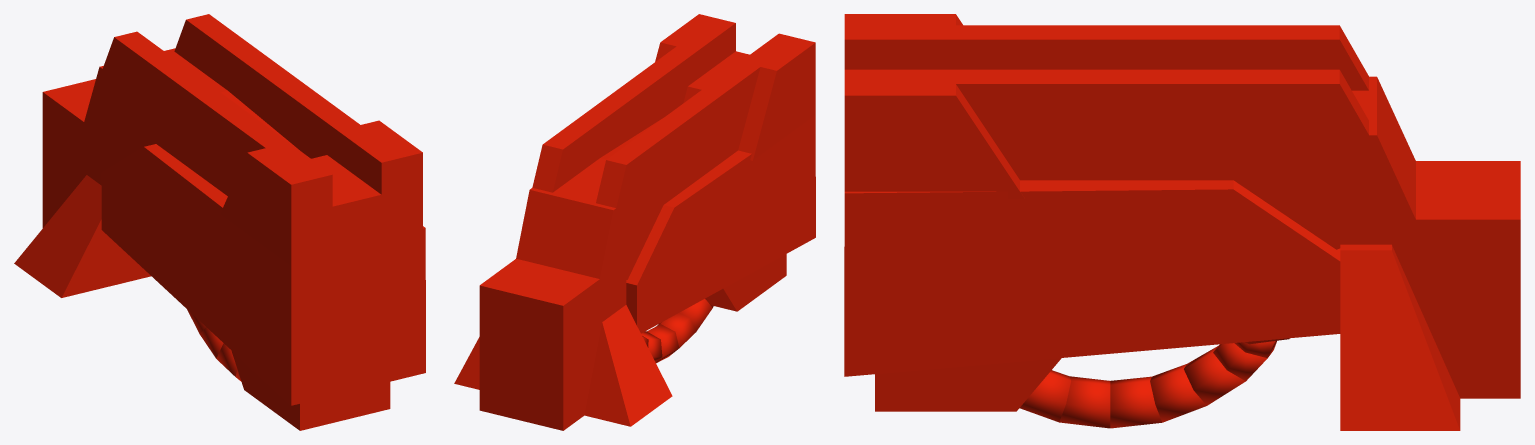
Rendered from env_mechanicalfiller_04_col.fbx.
3 views of the same model, side by side, from view 1: azimuth 30°, elevation 25°; view 2: azimuth 150°, elevation 25°; view 3: azimuth 270°, elevation 25° (orthographic). The views are drawn at different scales.
Visible parts, largest first — view 1: env_mechanicalfiller_04_col.020, env_mechanicalfiller_04_col.012, env_mechanicalfiller_04_col.015, env_mechanicalfiller_04_col.018, env_mechanicalfiller_04_col.001, env_mechanicalfiller_04_col.013, env_mechanicalfiller_04_col.016, env_mechanicalfiller_04_col.019, env_mechanicalfiller_04_col.017, env_mechanicalfiller_04_col.014; view 2: env_mechanicalfiller_04_col.020, env_mechanicalfiller_04_col.013, env_mechanicalfiller_04_col.012, env_mechanicalfiller_04_col.014, env_mechanicalfiller_04_col.015, env_mechanicalfiller_04_col.001, env_mechanicalfiller_04_col.018, env_mechanicalfiller_04_col.016, env_mechanicalfiller_04_col.019, env_mechanicalfiller_04_col.017, env_mechanicalfiller_04_col.006, env_mechanicalfiller_04_col.009 (+1 smaller); view 3: env_mechanicalfiller_04_col.020, env_mechanicalfiller_04_col.015, env_mechanicalfiller_04_col.014, env_mechanicalfiller_04_col.013, env_mechanicalfiller_04_col.012, env_mechanicalfiller_04_col.016, env_mechanicalfiller_04_col.001, env_mechanicalfiller_04_col.019, env_mechanicalfiller_04_col.018, env_mechanicalfiller_04_col.009, env_mechanicalfiller_04_col.006, env_mechanicalfiller_04_col.005 (+3 smaller).
Boxes of the visible parts, x1,y1,x2,y2 form: env_mechanicalfiller_04_col.020: (101,144,425,405); env_mechanicalfiller_04_col.012: (92,31,288,195); env_mechanicalfiller_04_col.015: (174,14,359,162); env_mechanicalfiller_04_col.018: (220,142,332,266); env_mechanicalfiller_04_col.001: (14,175,150,297); env_mechanicalfiller_04_col.013: (42,79,113,227); env_mechanicalfiller_04_col.016: (337,120,422,238); env_mechanicalfiller_04_col.019: (231,350,390,430); env_mechanicalfiller_04_col.017: (311,155,381,250); env_mechanicalfiller_04_col.014: (84,48,299,164); env_mechanicalfiller_04_col.020: (626,115,815,333); env_mechanicalfiller_04_col.013: (479,258,626,430); env_mechanicalfiller_04_col.012: (596,62,760,247); env_mechanicalfiller_04_col.014: (516,118,662,279); env_mechanicalfiller_04_col.015: (532,46,696,192); env_mechanicalfiller_04_col.001: (454,305,672,426); env_mechanicalfiller_04_col.018: (738,33,815,160); env_mechanicalfiller_04_col.016: (655,14,735,103); env_mechanicalfiller_04_col.019: (705,254,786,311); env_mechanicalfiller_04_col.017: (683,51,749,102); env_mechanicalfiller_04_col.006: (657,313,695,347); env_mechanicalfiller_04_col.009: (647,324,679,363); env_mechanicalfiller_04_col.020: (844,180,1340,376); env_mechanicalfiller_04_col.015: (956,69,1385,181); env_mechanicalfiller_04_col.014: (998,76,1415,249); env_mechanicalfiller_04_col.013: (1350,161,1520,398); env_mechanicalfiller_04_col.012: (956,25,1368,90); env_mechanicalfiller_04_col.016: (844,69,1024,198); env_mechanicalfiller_04_col.001: (1340,244,1460,430); env_mechanicalfiller_04_col.019: (875,358,1061,411); env_mechanicalfiller_04_col.018: (844,14,975,69); env_mechanicalfiller_04_col.009: (1110,376,1161,428); env_mechanicalfiller_04_col.006: (1059,376,1110,428); env_mechanicalfiller_04_col.005: (1150,364,1206,422).
Bounding box in the file's own units: 34.43 × 48.4 × 79.7.
